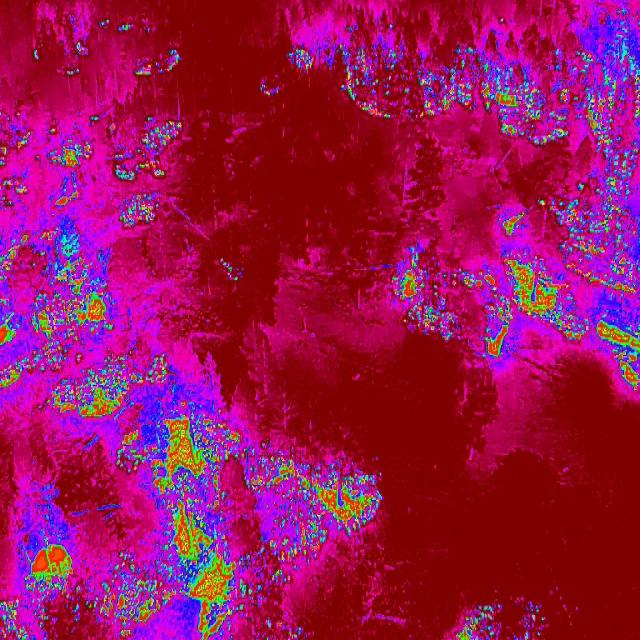fire: (332, 22, 482, 134), (18, 1, 184, 80), (45, 342, 183, 423), (0, 113, 94, 219), (562, 176, 638, 302), (478, 55, 574, 149), (503, 250, 595, 348), (106, 113, 184, 228), (148, 414, 233, 504), (304, 456, 391, 538), (100, 555, 180, 633), (573, 44, 637, 138), (183, 553, 245, 638), (31, 292, 114, 346), (448, 597, 549, 640), (243, 443, 310, 503), (591, 312, 637, 398), (164, 505, 228, 566), (262, 522, 328, 577), (23, 542, 82, 598), (51, 239, 108, 295), (0, 226, 54, 282), (400, 297, 460, 345), (114, 417, 159, 474), (597, 134, 640, 190), (18, 479, 62, 533), (482, 298, 516, 361), (436, 266, 501, 298), (0, 350, 44, 395), (392, 261, 422, 305), (500, 205, 532, 241), (0, 314, 24, 350), (0, 600, 21, 640), (285, 46, 314, 74), (214, 257, 244, 283), (261, 77, 282, 97)
